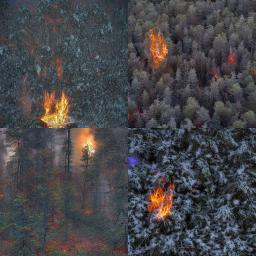Small fire: (35, 87, 71, 132), (62, 122, 99, 161), (146, 181, 179, 223), (145, 27, 174, 66)
